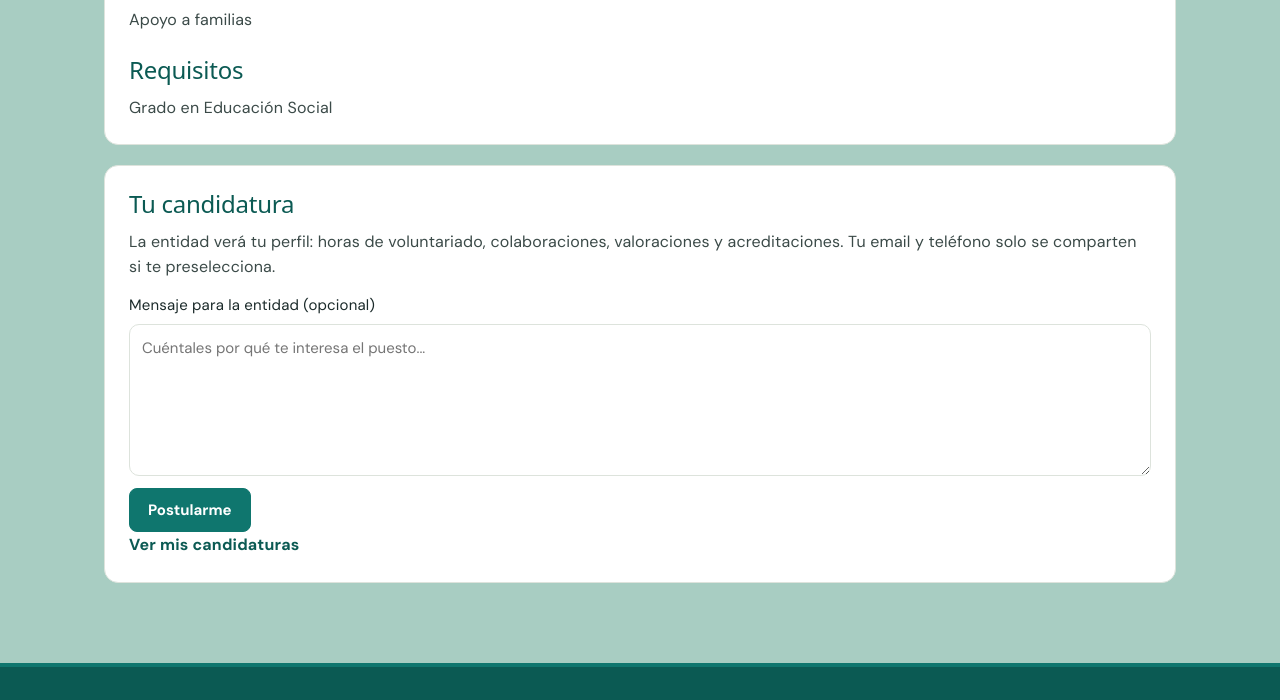
Test: OfertaEmpleoDetalle (voluntario) › muestra la oferta y envia la candidatura con el mensaje
(page scrolled)
Expected: the text "Grado en Educación Social" is shown, x1=129 y1=97 x2=333 y2=118
Type "Me encanta" into the text box labelled "Mensaje para la entidad (opcional)" at point(640, 400), box x1=129 y1=324 x2=1151 y2=476
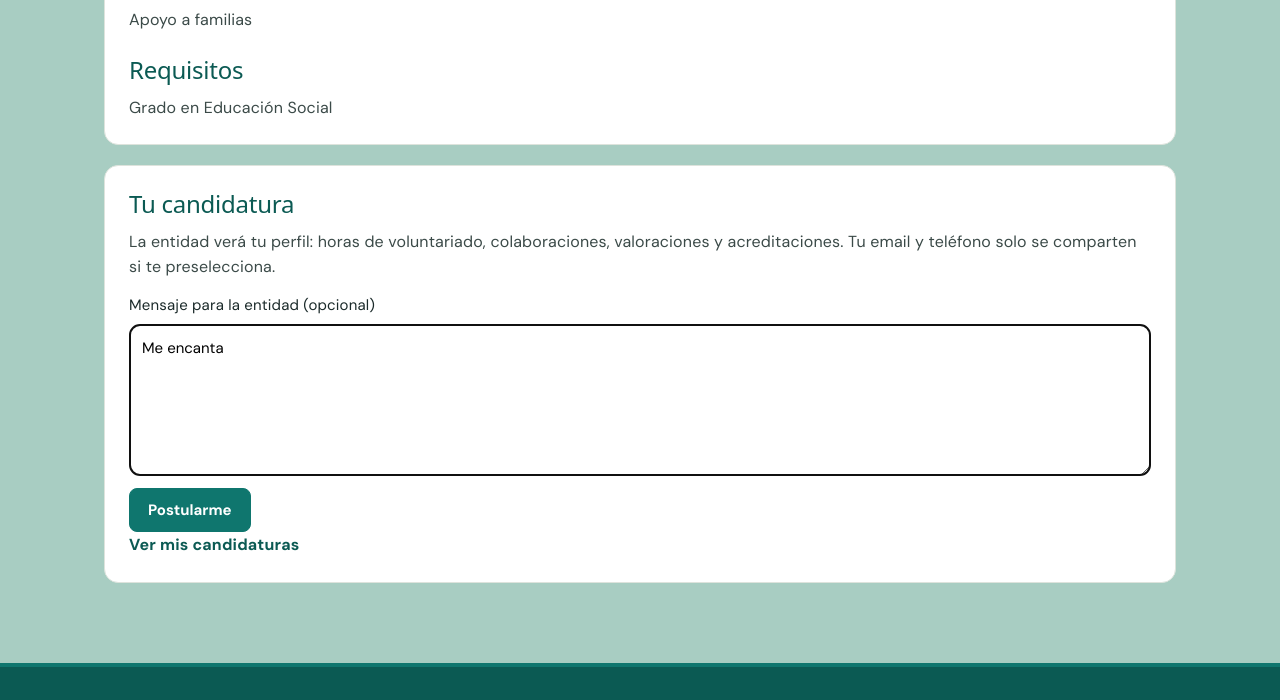
Click the button "Postularme" at point(190, 510), box x1=129 y1=488 x2=251 y2=532
(page scrolled)
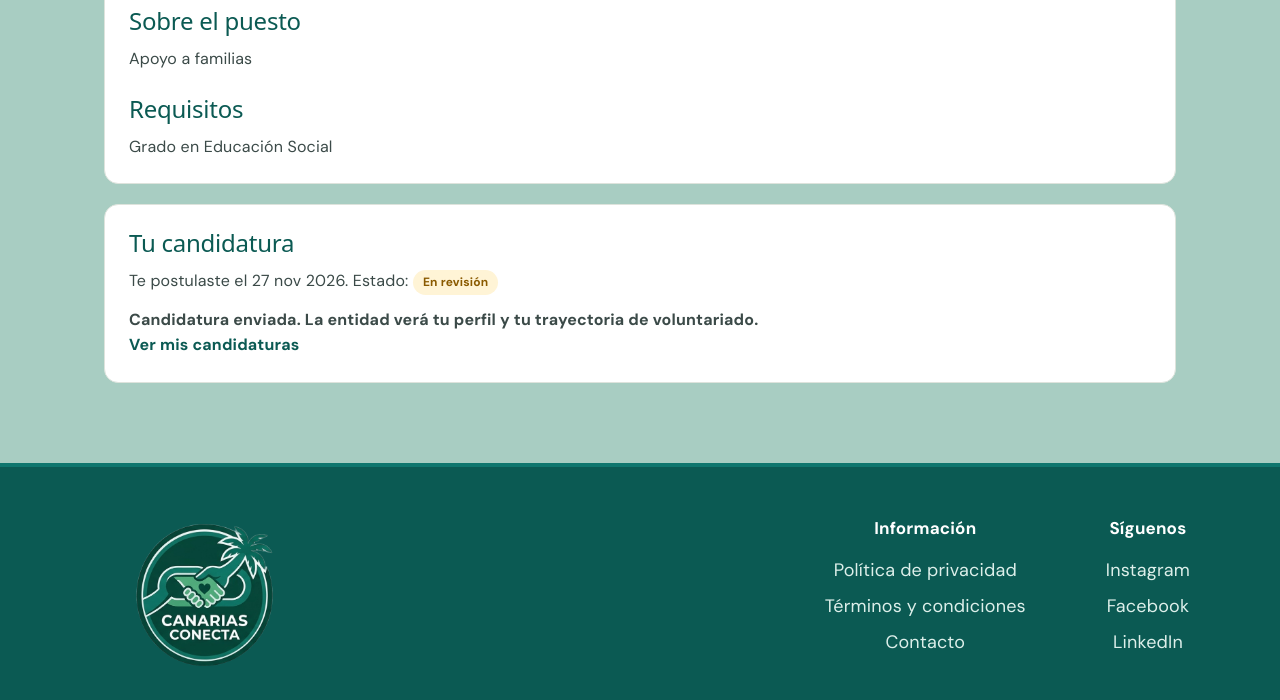
Result: the text "Candidatura enviada" is shown at x1=129 y1=309 x2=758 y2=330
Result: the text "En revisión" is shown at x1=413 y1=270 x2=498 y2=295
Result: the button "Postularme" is gone
